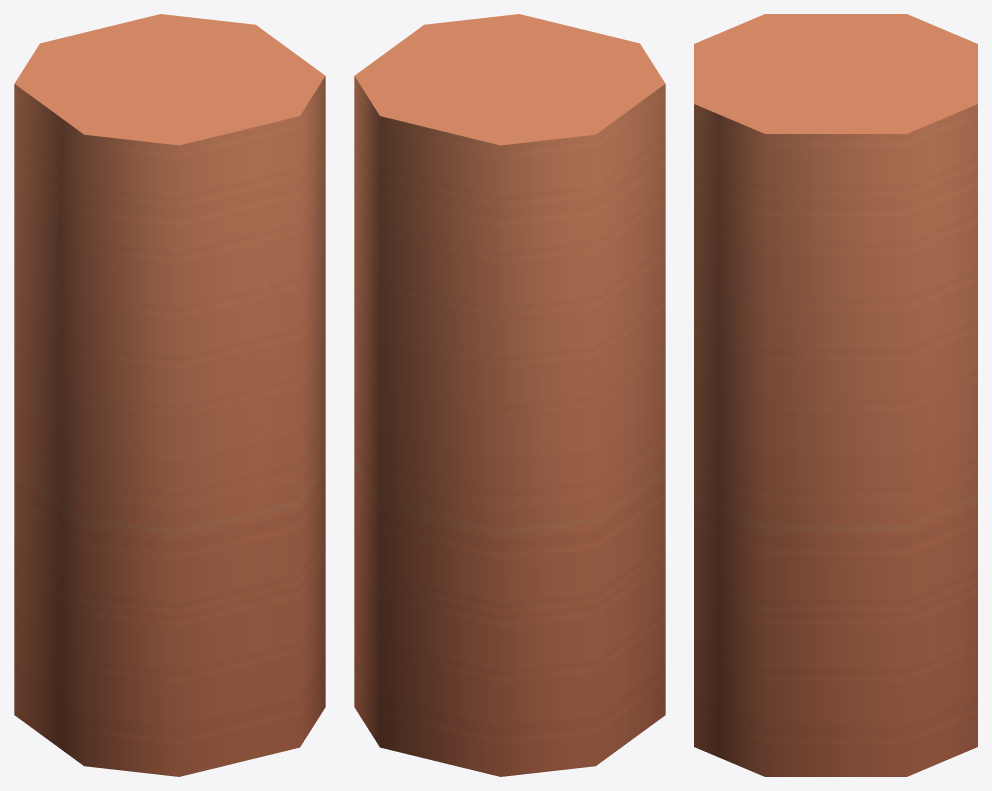
File: support.glb
The picture shows the model from 3 angles, left to right: view 1: azimuth 30°, elevation 25°; view 2: azimuth 150°, elevation 25°; view 3: azimuth 270°, elevation 25°; orthographic projection.
Visible parts, largest first — view 1: support; view 2: support; view 3: support.
Boxes of the visible parts, <box> form: support: <box>14,14,325,776</box>; support: <box>354,14,665,776</box>; support: <box>694,14,977,776</box>.
Size of the model in its own units: 0.4 by 1 by 0.4.
1 material, 1 textured.
